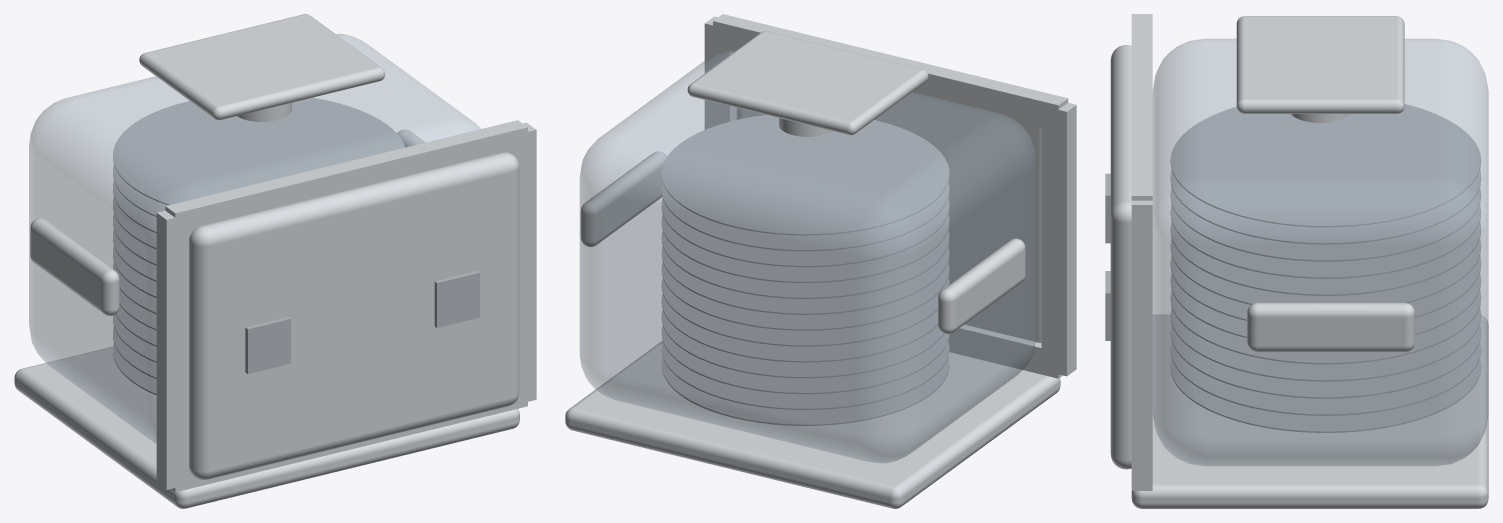
File: foup.glb
The picture shows the model from 3 angles, left to right: view 1: azimuth 30°, elevation 25°; view 2: azimuth 150°, elevation 25°; view 3: azimuth 270°, elevation 25°; orthographic projection. The views are drawn at different scales.
Visible parts, largest first — view 1: door, shell, frame, wafer12, coupling, topFlange, handleL, wafer11, wafer9, wafer0, wafer10, wafer1 (+7 smaller); view 2: shell, coupling, wafer12, frame, door, topFlange, wafer11, wafer10, wafer1, wafer0, wafer6, wafer9 (+8 smaller); view 3: shell, coupling, wafer12, topFlange, frame, door, handleR, wafer3, wafer11, wafer1, wafer9, wafer2 (+7 smaller).
Boxes of the visible parts, x1,y1,x2,y2 form: door: [189, 152, 519, 480]; shell: [29, 34, 480, 443]; frame: [156, 120, 536, 492]; wafer12: [113, 97, 404, 205]; coupling: [14, 346, 519, 508]; topFlange: [139, 14, 385, 121]; handleL: [30, 218, 119, 315]; wafer11: [113, 165, 167, 216]; wafer9: [113, 198, 156, 249]; wafer0: [113, 344, 156, 394]; wafer10: [113, 182, 156, 232]; wafer1: [113, 327, 156, 378]; shell: [580, 50, 1036, 462]; coupling: [565, 341, 1060, 508]; wafer12: [661, 115, 949, 235]; frame: [704, 14, 1076, 378]; door: [736, 95, 1041, 342]; topFlange: [687, 31, 928, 136]; wafer11: [661, 182, 949, 251]; wafer10: [661, 198, 949, 267]; wafer1: [661, 341, 949, 409]; wafer0: [661, 357, 949, 425]; wafer6: [661, 262, 949, 330]; wafer9: [661, 214, 949, 282]; shell: [1153, 39, 1488, 465]; coupling: [1131, 314, 1488, 508]; wafer12: [1170, 104, 1481, 227]; topFlange: [1236, 16, 1404, 122]; frame: [1131, 14, 1152, 490]; door: [1105, 45, 1131, 469]; handleR: [1247, 302, 1414, 352]; wafer3: [1170, 307, 1481, 381]; wafer11: [1170, 170, 1481, 244]; wafer1: [1170, 341, 1481, 415]; wafer9: [1170, 204, 1481, 278]; wafer2: [1170, 324, 1481, 398].
Size of the model in its own units: 0.444 by 0.3845 by 0.365.
